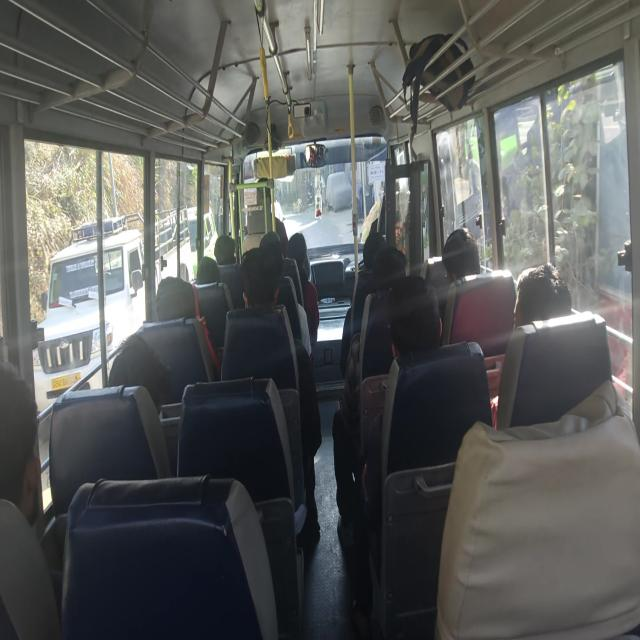person: (0, 341, 45, 542), (377, 270, 452, 364), (108, 327, 180, 403), (508, 262, 576, 333), (240, 246, 280, 325), (438, 228, 485, 283), (153, 277, 204, 326), (351, 222, 390, 268), (368, 246, 408, 290), (192, 245, 227, 292), (204, 222, 238, 270), (288, 215, 315, 275), (254, 216, 285, 268), (379, 178, 409, 220), (251, 170, 275, 208)
